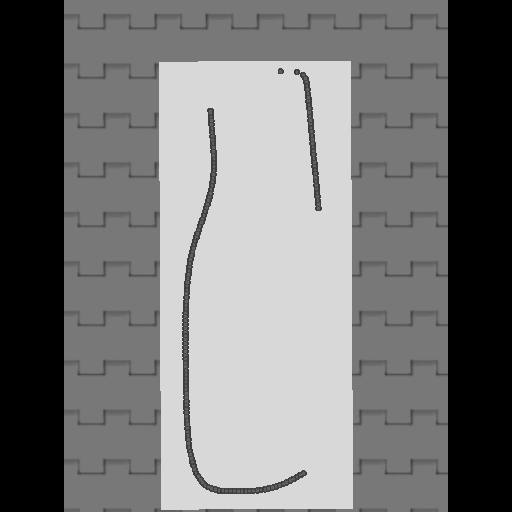Defect: (296, 204, 325, 477)
